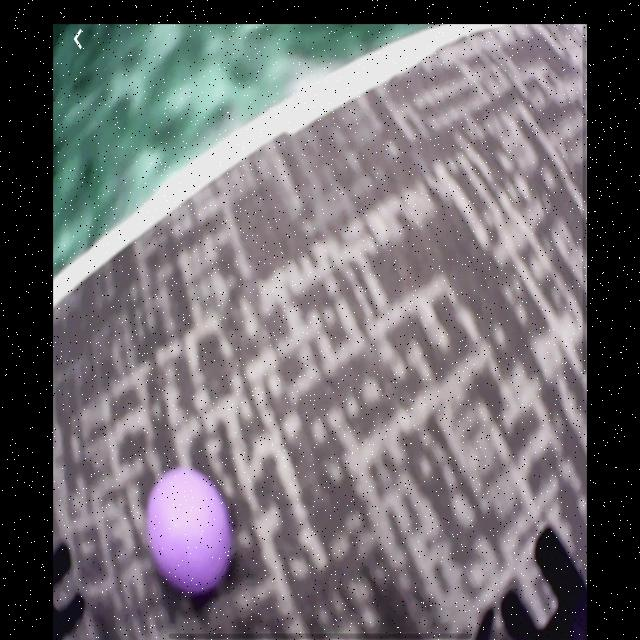ball: (147, 469, 236, 598)
